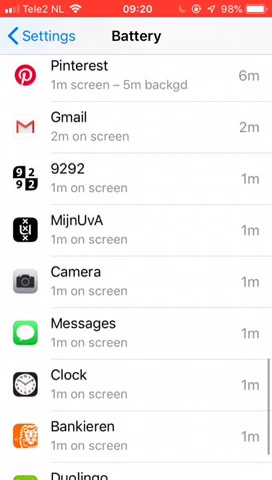app: (12, 110, 265, 144), (11, 161, 264, 195), (11, 214, 264, 248), (13, 265, 266, 299), (11, 316, 264, 350), (8, 368, 261, 402), (11, 417, 264, 451)
